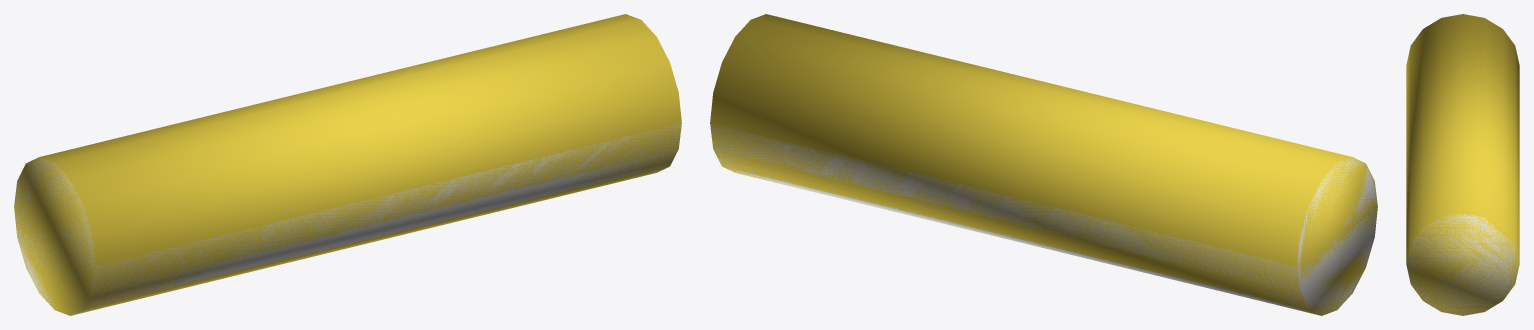
The model's file is Kerb_Sausage_1m.glb.
3 views of the same model, side by side, from view 1: azimuth 30°, elevation 25°; view 2: azimuth 150°, elevation 25°; view 3: azimuth 270°, elevation 25° (orthographic). The views are drawn at different scales.
Parts seen in each view (by area): view 1: Kerb_Sausage_1m_LOD0, Kerb_Sausage_1m_COL; view 2: Kerb_Sausage_1m_LOD0, Kerb_Sausage_1m_COL; view 3: Kerb_Sausage_1m_LOD0, Kerb_Sausage_1m_COL.
Part boxes in pixels (left/top/right/bottom): Kerb_Sausage_1m_LOD0: left=14, top=14, right=681, bottom=315; Kerb_Sausage_1m_COL: left=14, top=123, right=681, bottom=315; Kerb_Sausage_1m_LOD0: left=710, top=14, right=1377, bottom=315; Kerb_Sausage_1m_COL: left=710, top=124, right=1377, bottom=315; Kerb_Sausage_1m_LOD0: left=1406, top=14, right=1519, bottom=315; Kerb_Sausage_1m_COL: left=1407, top=214, right=1518, bottom=315.
Size of what is drawn, in the model's own units: 1 by 0.24 by 0.24.
